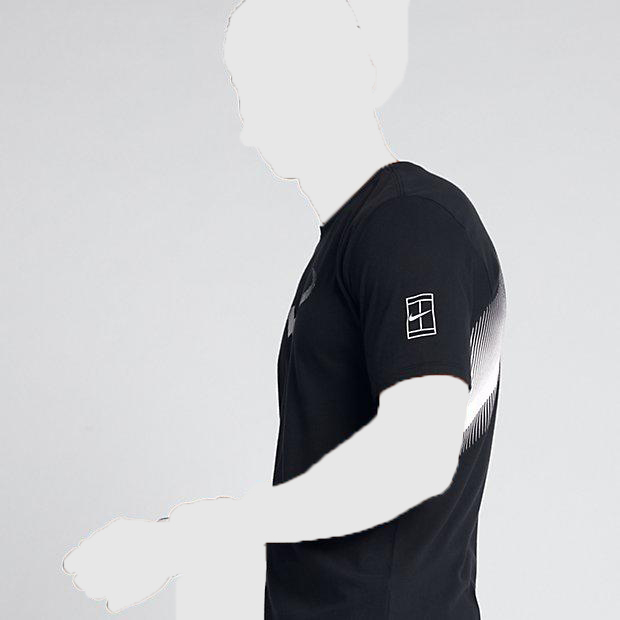teeshirt: (260, 161, 517, 620)
